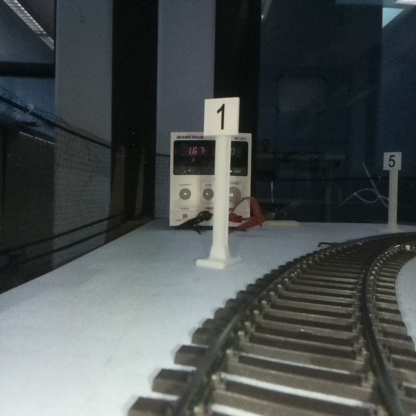white-info-1: (204, 97, 238, 264)
white-info-5: (384, 152, 401, 230)
